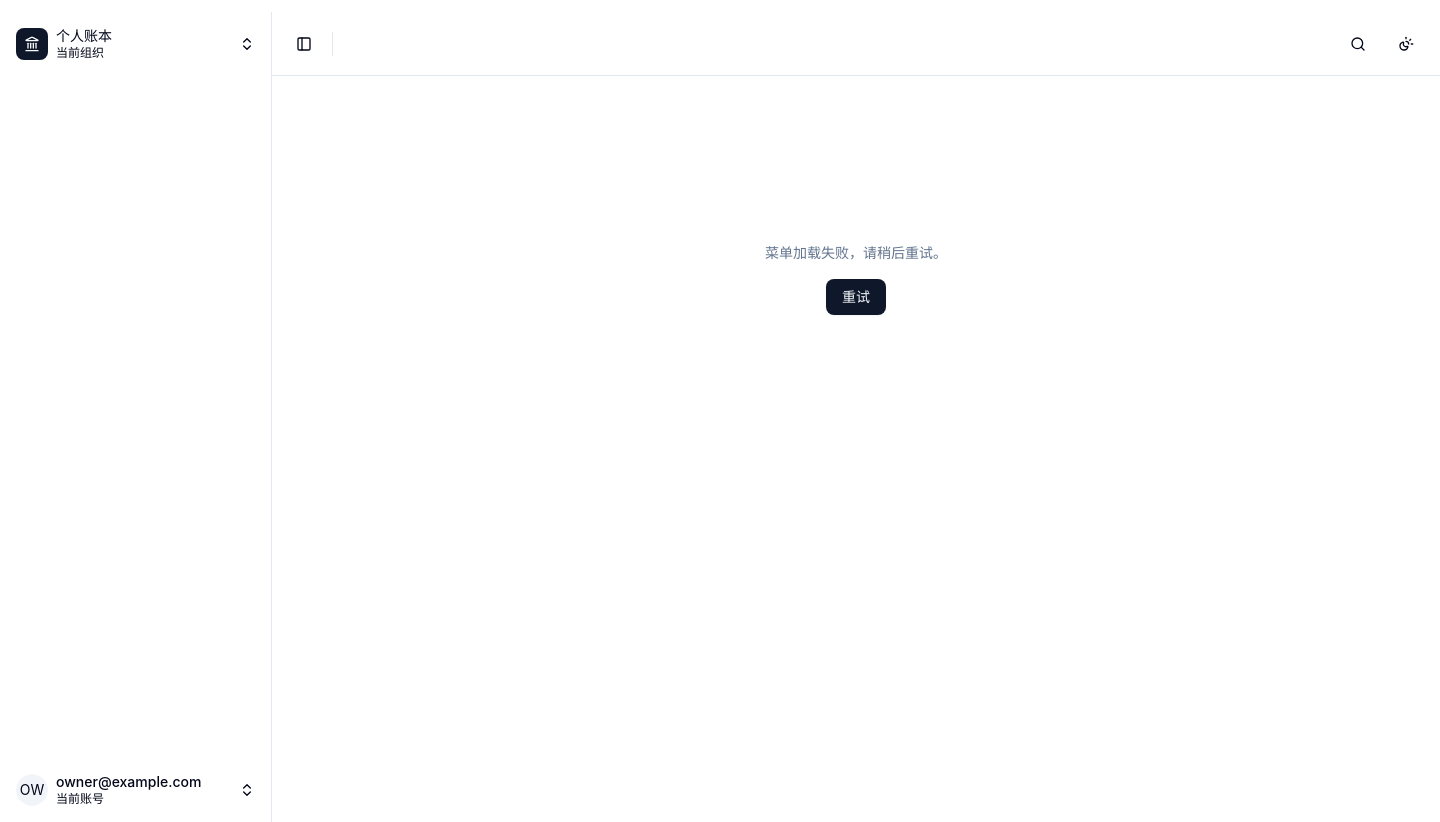
AuthenticatedLayout › 菜单加载失败时保留认证并允许原地重试
Expected: the message reads "菜单加载失败，请稍后重试。", [765,244,947,260]
Expected: the text "重试后的内容" is not shown
Click the button "重试": (856, 296) [826,278,886,314]
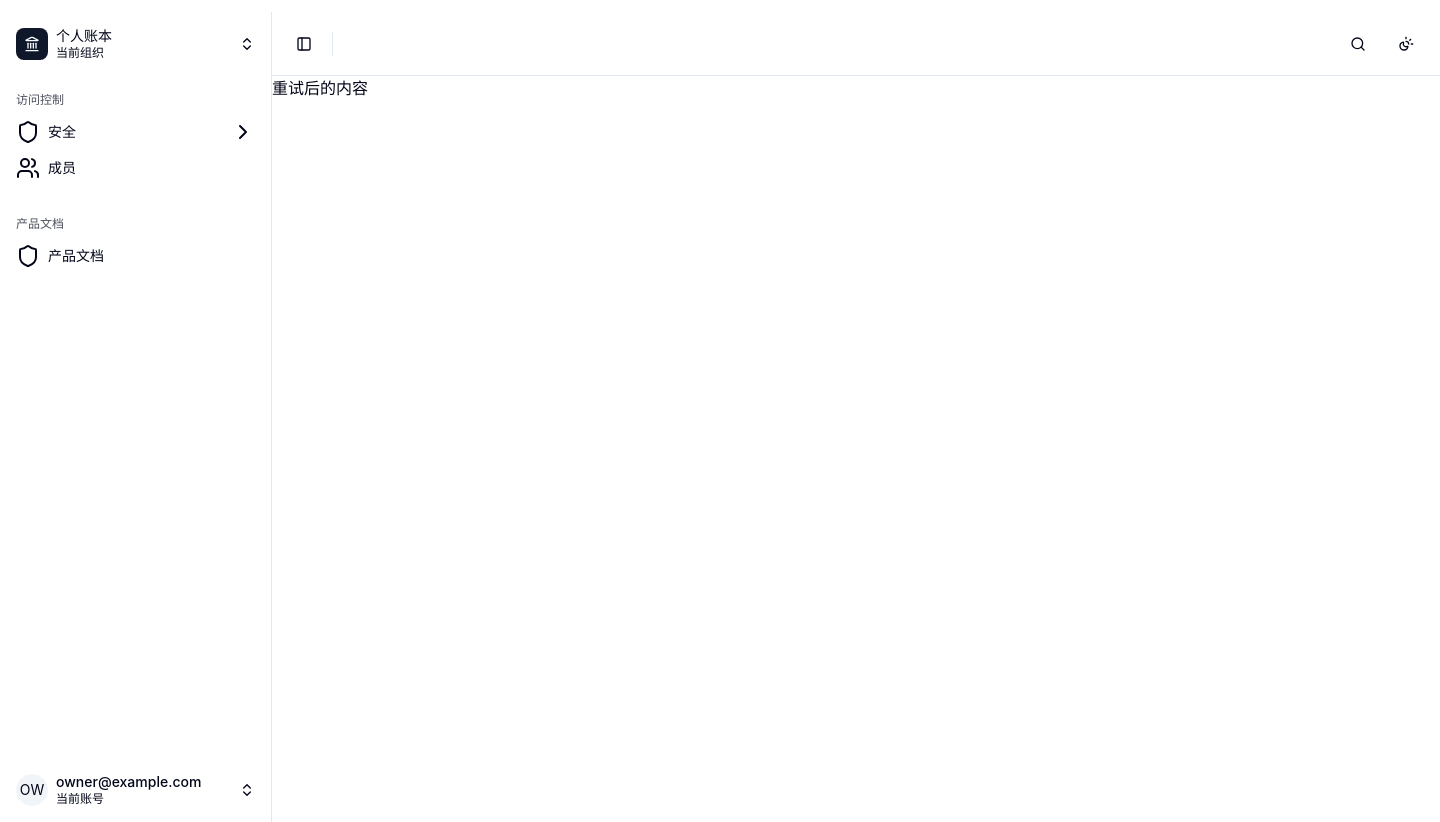
Expected: the text "重试后的内容" is shown, [272,78,368,98]
